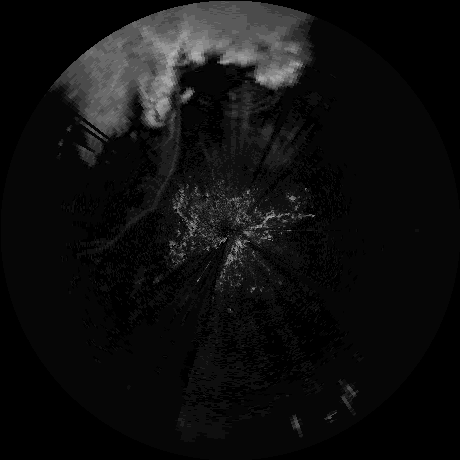frontgust: (78, 97, 179, 253), (159, 109, 173, 150)
